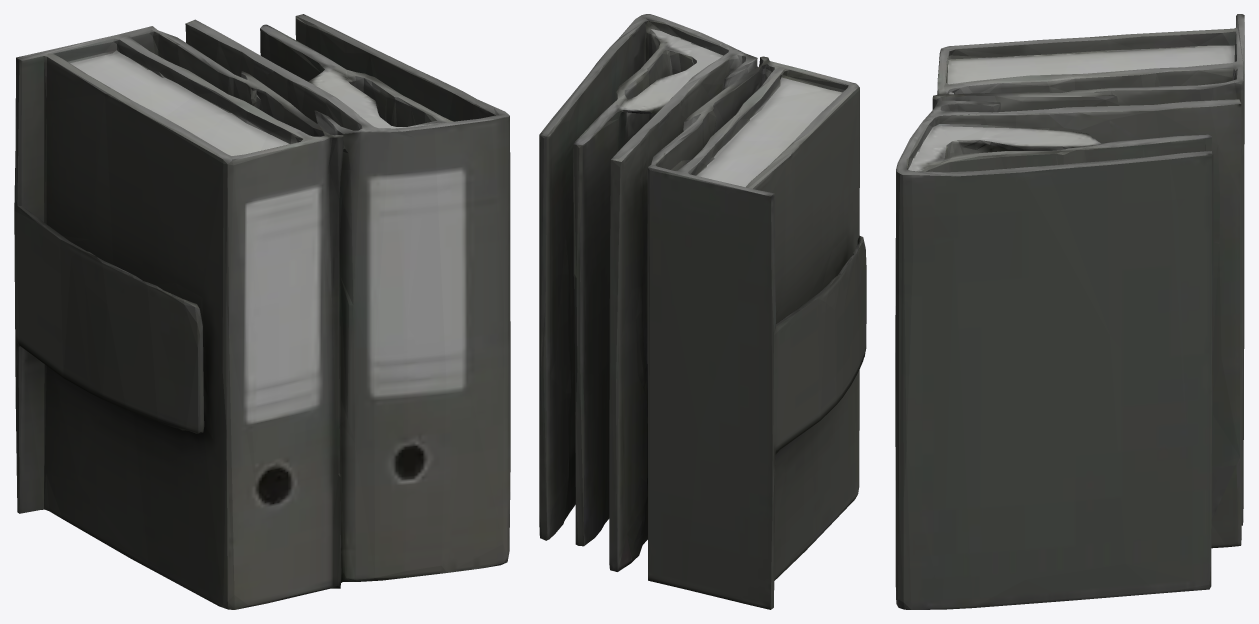
The model's file is desk_binders.glb.
3 renders of one model, left to right at view 1: azimuth 30°, elevation 25°; view 2: azimuth 150°, elevation 25°; view 3: azimuth 270°, elevation 25°, orthographic. The views are drawn at different scales.
Visible parts, largest first — view 1: geometry_0; view 2: geometry_0; view 3: geometry_0.
Boxes of the visible parts, bbox=[...] form: geometry_0: bbox=[14, 14, 510, 609]; geometry_0: bbox=[539, 14, 866, 609]; geometry_0: bbox=[895, 14, 1244, 609].
Size of the model in its own units: 0.3633 by 0.4886 by 0.3462.
1 material, 1 textured.
